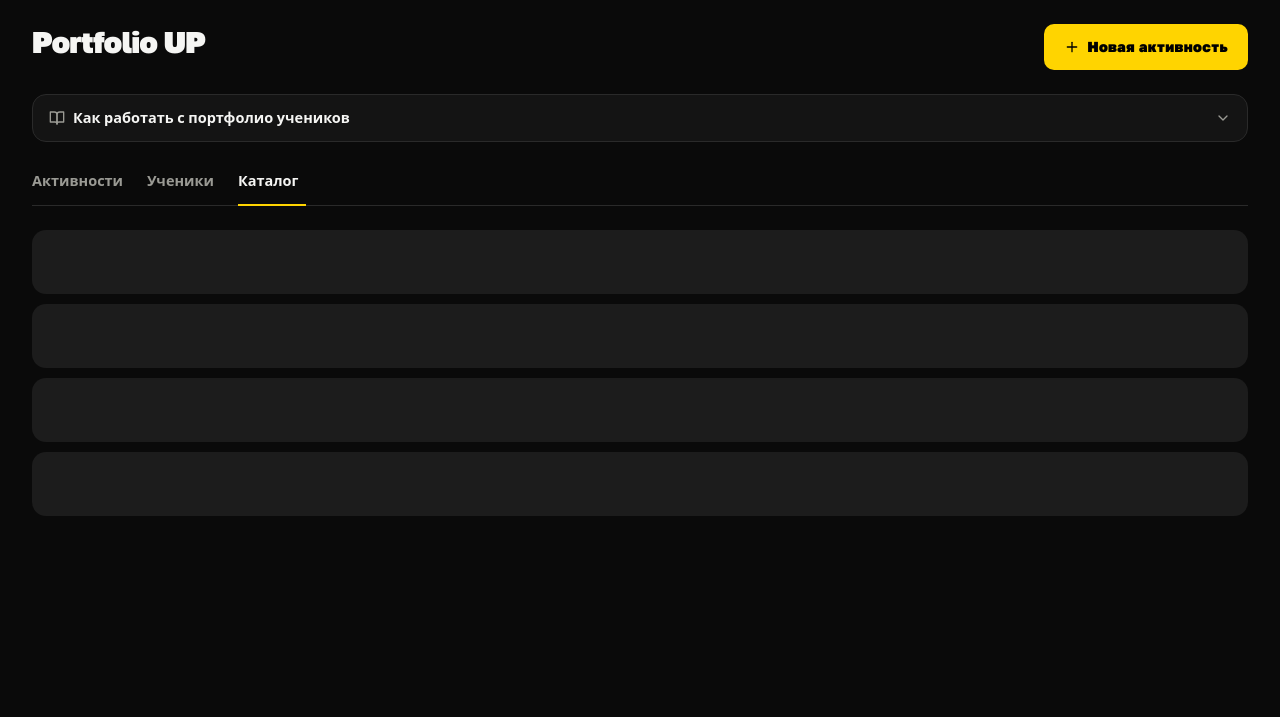
Test: инструкция назначения доступна сотруднику внутри модуля
Click the heading "Как работать с портфолио учеников" at (211, 118), box 49,109 -> 1231,126
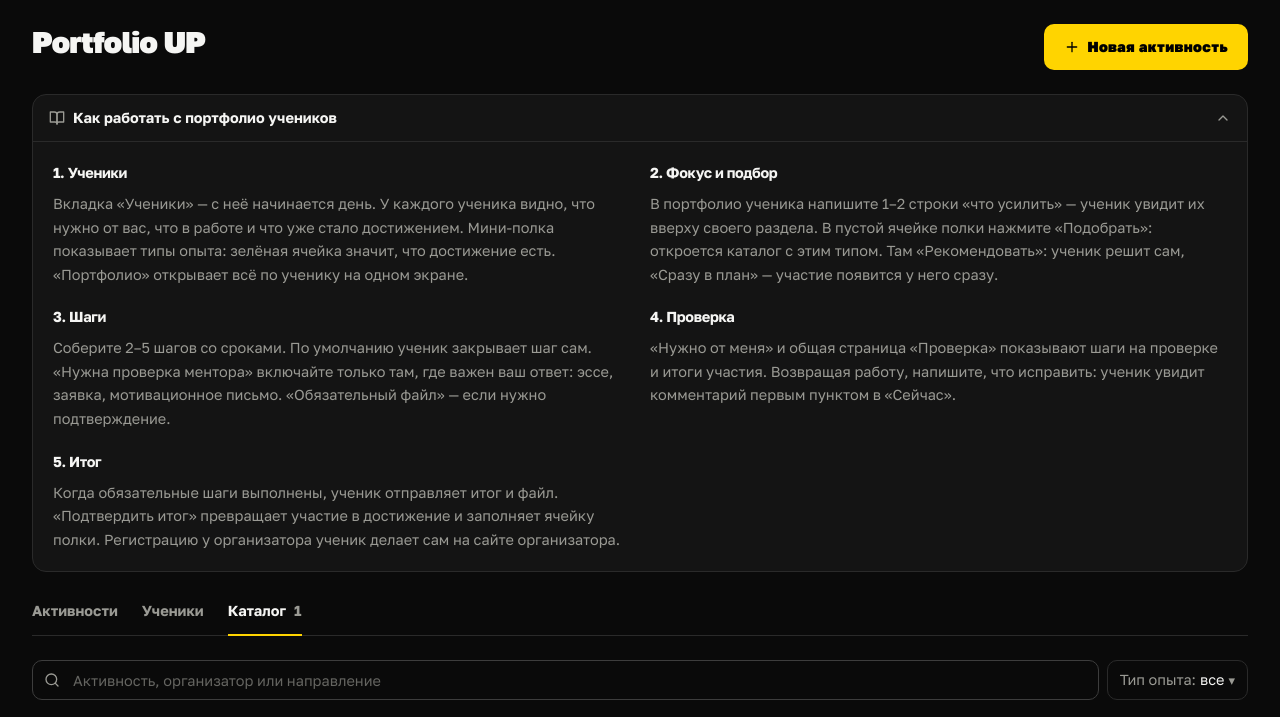
expect the heading "3. Шаги" is shown: met, box 53,308 -> 106,325
